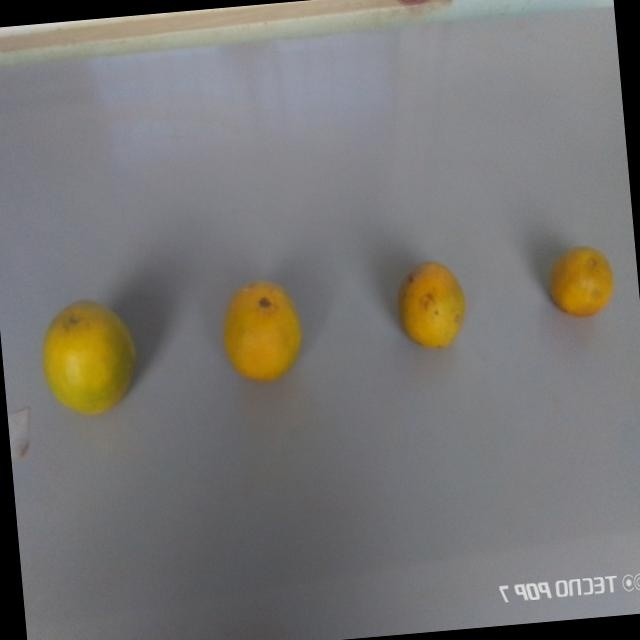agrume: (33, 291, 147, 425), (212, 273, 321, 391), (385, 253, 478, 360), (543, 240, 617, 320)
